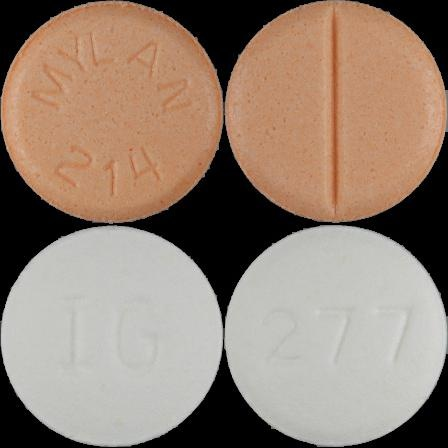53808-0631: (0, 0, 224, 224)
